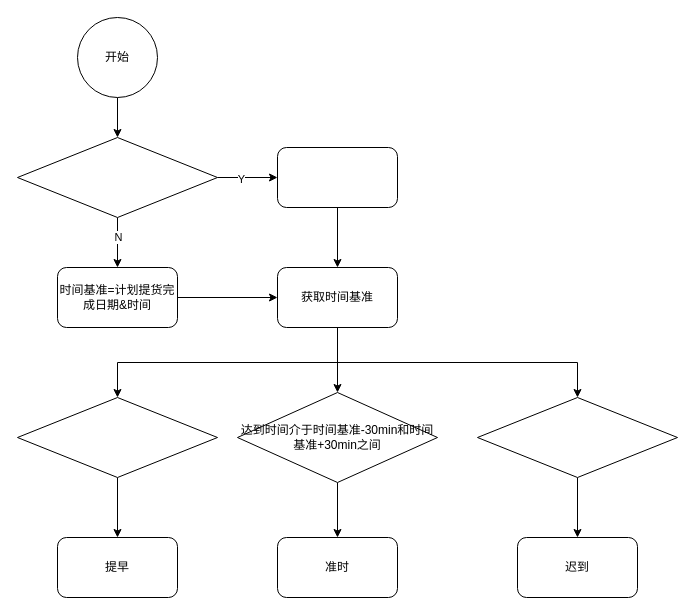
Image size: 695x615. Some labels were removed from this diagram. The shapes that lost their labels are listed below. From the top down, each one's box as (x1, y1, x2, y2) in pixels, then its label:
(16, 136, 218, 218): 运单特殊要求？
(276, 146, 398, 208): 时间基准=门店营业开始时间-30min
(16, 396, 218, 478): 达到时间早于时间基准-30min
(476, 396, 678, 478): 达到时间晚于时间基准+30min
